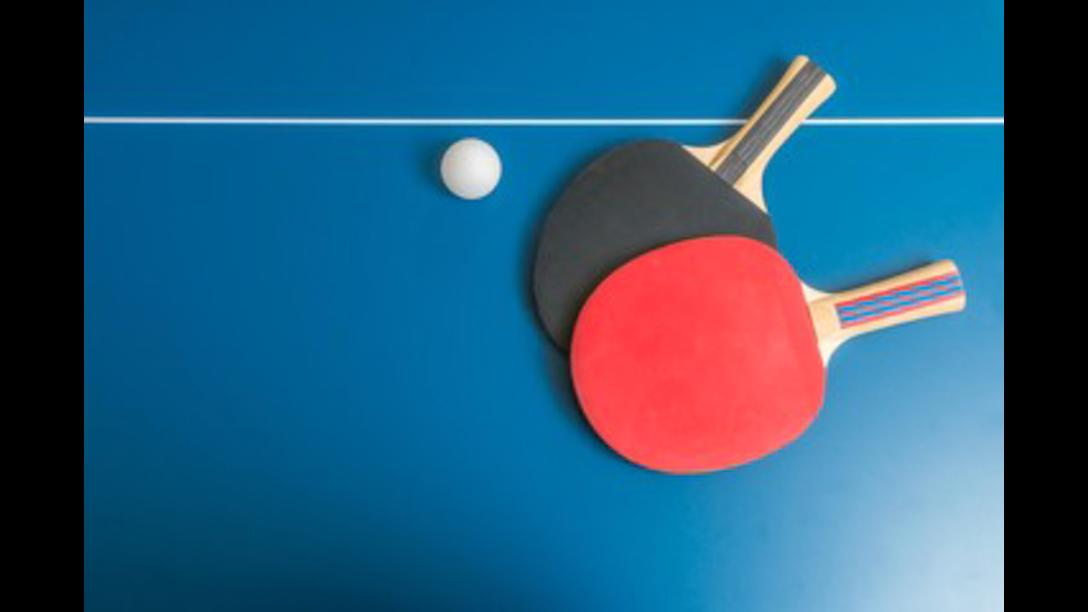Table-Tennis-Ball: (442, 139, 502, 199)
